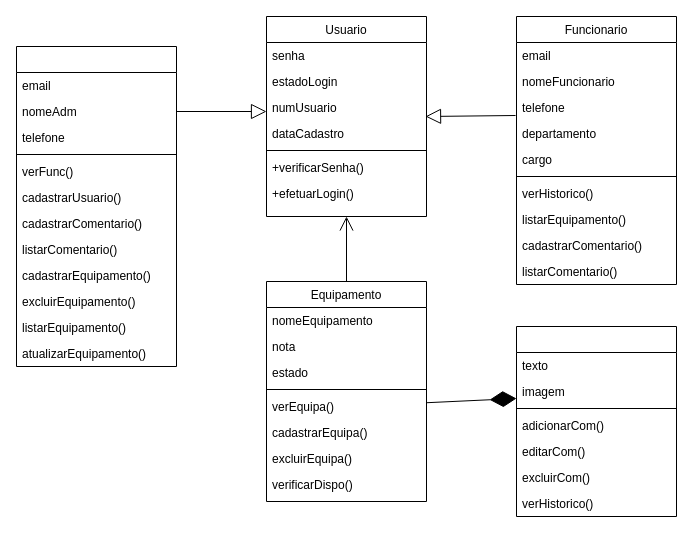
Some shapes in this 693 by 533 pixel diagram are drawn without their labels. The shapes that lost their labels are listed below. From the top down, each one's box as (x1, y1, x2, y2) in pixels, then its label:
(16, 46, 176, 366): Administrador
(516, 326, 676, 516): Comentario
